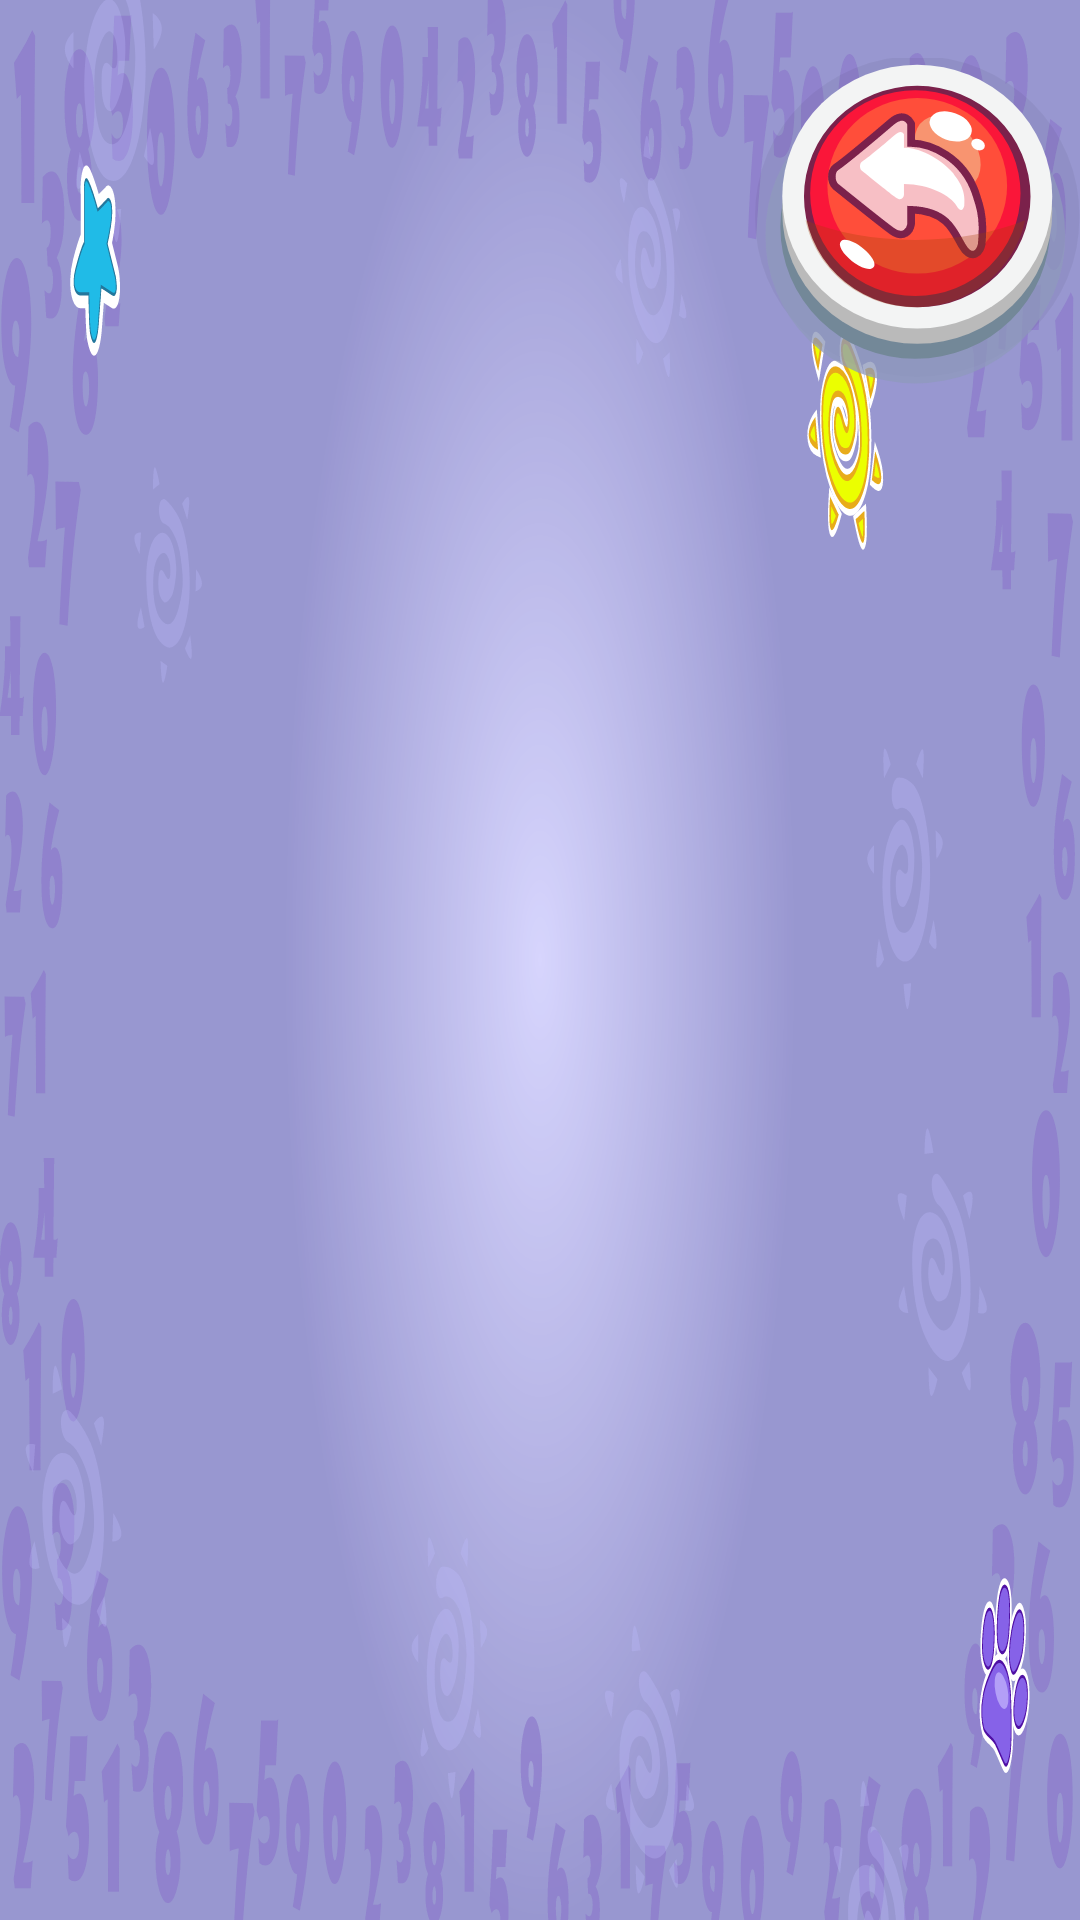

Icons on this 1080*1920 Android screen, each with the point to tap as [x,y]:
exit: [910,221]
